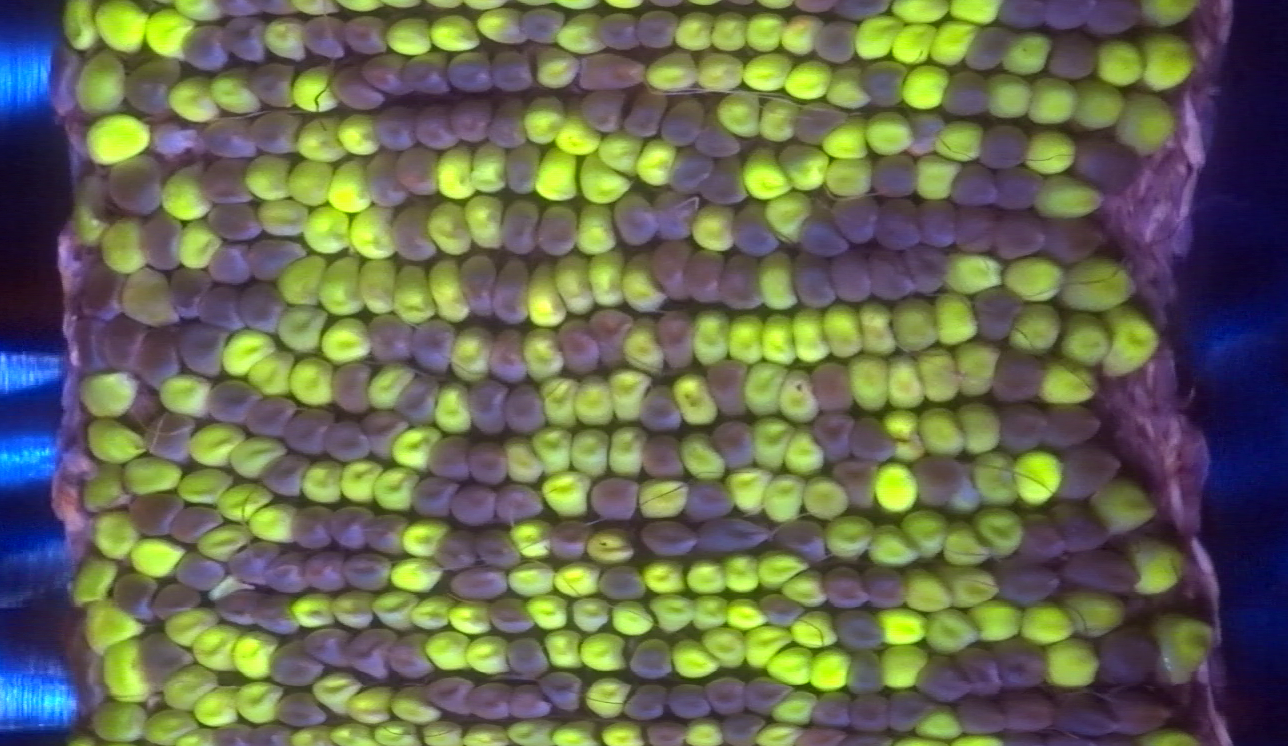fluorescent: (1157, 613, 1216, 684), (1098, 304, 1157, 374), (1122, 90, 1176, 156), (1118, 543, 1183, 595), (1066, 259, 1132, 309), (125, 264, 176, 324), (1095, 479, 1151, 533), (1138, 35, 1194, 86), (83, 117, 148, 158), (1062, 592, 1128, 632), (621, 254, 664, 315), (1012, 453, 1061, 506), (923, 609, 977, 656), (1009, 304, 1059, 354), (77, 375, 134, 418), (939, 563, 996, 606), (82, 605, 140, 647), (1006, 257, 1061, 301), (83, 418, 144, 457), (605, 368, 649, 422), (553, 256, 593, 315), (955, 403, 1002, 453), (947, 249, 1002, 291), (1043, 644, 1098, 686), (274, 257, 324, 303), (103, 649, 149, 699), (146, 7, 188, 61), (430, 262, 466, 325), (100, 222, 148, 269), (892, 299, 938, 348), (973, 507, 1019, 556), (579, 156, 630, 200), (1037, 179, 1101, 214), (674, 374, 717, 426), (77, 57, 121, 107), (188, 419, 238, 463), (932, 118, 984, 160), (527, 263, 562, 325), (849, 356, 887, 413), (232, 433, 279, 479), (918, 409, 967, 453), (429, 200, 471, 251), (636, 478, 687, 520), (1043, 359, 1096, 399), (1076, 81, 1122, 127), (544, 473, 590, 519), (743, 148, 790, 193), (624, 321, 663, 375), (161, 169, 211, 211), (777, 148, 829, 188), (211, 69, 258, 113), (99, 1, 142, 49), (290, 357, 333, 405), (222, 334, 271, 376), (754, 549, 804, 590), (256, 199, 307, 239), (860, 304, 900, 355), (792, 309, 831, 361), (904, 511, 949, 556), (169, 77, 217, 119), (1027, 131, 1075, 173), (302, 212, 350, 254), (320, 321, 370, 361), (759, 255, 796, 309), (743, 364, 780, 418), (919, 351, 958, 402), (823, 517, 874, 556), (875, 465, 918, 511), (903, 568, 951, 609), (163, 610, 216, 647), (576, 204, 616, 253), (89, 701, 138, 741), (935, 293, 974, 343), (824, 304, 863, 354), (523, 328, 561, 379), (828, 154, 873, 197), (195, 626, 238, 671), (803, 478, 849, 520), (599, 132, 640, 179), (330, 163, 371, 210), (749, 626, 790, 673), (395, 269, 430, 324), (437, 146, 474, 198), (291, 68, 340, 107), (322, 262, 358, 315), (247, 155, 292, 197), (541, 150, 578, 201), (955, 346, 994, 394), (348, 218, 397, 256), (763, 312, 798, 365), (197, 523, 250, 558), (679, 434, 722, 477), (1065, 317, 1107, 361), (881, 648, 926, 689), (764, 196, 807, 238), (92, 515, 134, 558), (297, 121, 341, 162), (1029, 81, 1074, 121), (456, 329, 492, 379), (523, 97, 561, 144), (538, 378, 575, 426), (124, 460, 183, 490), (781, 372, 817, 421), (717, 95, 760, 136), (289, 161, 330, 204), (944, 526, 988, 566), (425, 632, 469, 672), (159, 379, 212, 412), (128, 540, 181, 573), (870, 527, 917, 564), (391, 560, 438, 597), (648, 50, 696, 86), (361, 261, 393, 315), (883, 416, 925, 457), (337, 117, 380, 157), (874, 612, 929, 643), (466, 200, 503, 246), (977, 459, 1014, 505), (254, 347, 290, 394), (393, 688, 440, 724), (894, 22, 935, 63), (1102, 44, 1143, 85), (857, 17, 897, 59), (559, 103, 594, 151), (763, 473, 798, 521), (1006, 33, 1049, 72), (233, 633, 272, 676), (370, 365, 408, 409), (672, 638, 716, 676), (868, 116, 913, 153), (1027, 606, 1074, 641), (988, 76, 1030, 115), (375, 469, 414, 511), (372, 593, 415, 631), (694, 309, 726, 360), (701, 630, 745, 667), (901, 71, 946, 107), (529, 428, 569, 468), (589, 259, 623, 306), (698, 53, 740, 91), (720, 553, 758, 595), (279, 309, 322, 346), (220, 484, 273, 514), (59, 3, 95, 47), (610, 598, 654, 634), (501, 441, 541, 480), (393, 424, 432, 464), (253, 505, 293, 544), (829, 67, 870, 105), (888, 362, 925, 404), (819, 123, 866, 156), (576, 381, 612, 424), (649, 595, 692, 631), (167, 669, 210, 705), (292, 593, 336, 628), (732, 313, 764, 361), (589, 527, 634, 561), (760, 101, 799, 140), (554, 564, 600, 597), (915, 160, 956, 197), (179, 225, 216, 266), (729, 473, 766, 514), (235, 683, 276, 720), (766, 650, 813, 682), (696, 203, 730, 247), (754, 420, 788, 464), (509, 522, 553, 556), (611, 432, 644, 477), (636, 140, 672, 181), (557, 16, 603, 48), (431, 18, 478, 49), (974, 605, 1021, 636), (313, 680, 357, 713), (544, 631, 582, 669), (537, 49, 578, 84), (788, 433, 823, 474), (809, 654, 850, 689), (934, 27, 976, 61), (792, 613, 838, 644), (469, 638, 509, 673), (582, 638, 627, 669), (475, 12, 523, 41), (586, 680, 628, 713), (346, 459, 376, 505), (196, 687, 239, 719), (266, 18, 303, 55), (473, 148, 504, 192), (573, 432, 607, 472), (788, 63, 829, 96), (784, 575, 827, 606), (724, 599, 767, 630), (676, 13, 713, 49), (686, 559, 723, 595), (743, 59, 792, 86), (438, 385, 468, 429), (404, 521, 446, 552), (81, 556, 111, 599), (915, 709, 961, 737), (86, 469, 124, 502), (748, 14, 784, 48), (178, 474, 229, 498), (307, 459, 340, 496), (644, 563, 686, 592), (389, 24, 430, 53), (529, 597, 568, 627), (450, 603, 489, 633), (335, 593, 372, 624), (772, 692, 809, 723), (349, 692, 393, 718), (693, 597, 725, 632), (572, 600, 609, 630), (411, 598, 449, 627), (1143, 2, 1193, 24), (507, 568, 551, 593), (713, 16, 745, 50), (509, 719, 555, 742), (144, 713, 194, 734), (784, 20, 815, 53), (891, 2, 950, 19), (945, 4, 1000, 22), (171, 1, 217, 21), (74, 203, 105, 232), (552, 726, 600, 744), (602, 723, 644, 743), (331, 724, 369, 743), (687, 725, 724, 743), (467, 724, 505, 741), (376, 726, 413, 742), (425, 725, 461, 740), (292, 1, 336, 12), (755, 729, 796, 740), (177, 731, 213, 742), (294, 731, 326, 740)
nonfluorescent: (1095, 622, 1164, 683), (1057, 554, 1141, 594), (1048, 501, 1114, 551), (1075, 134, 1138, 185), (1112, 687, 1174, 736), (579, 50, 647, 94), (1058, 448, 1119, 497), (113, 156, 166, 212), (994, 638, 1053, 688), (993, 559, 1060, 602), (1016, 512, 1070, 564), (181, 319, 229, 377), (913, 455, 965, 508), (200, 159, 259, 205), (916, 654, 968, 706), (1052, 692, 1119, 732), (1045, 218, 1110, 259), (861, 61, 912, 113), (493, 258, 530, 329), (131, 57, 176, 115), (393, 202, 437, 261), (501, 195, 542, 258), (1042, 403, 1105, 444), (697, 519, 770, 554), (835, 459, 881, 514), (659, 310, 701, 370), (200, 114, 257, 158), (77, 262, 121, 319), (101, 323, 149, 375), (269, 636, 322, 683), (586, 478, 641, 523), (704, 359, 748, 415), (771, 519, 828, 562), (144, 632, 190, 685), (652, 241, 691, 303), (143, 411, 192, 460), (415, 317, 455, 377), (226, 538, 276, 586), (372, 103, 419, 154), (873, 197, 920, 248), (993, 212, 1044, 259), (459, 251, 493, 321), (1052, 32, 1100, 81), (253, 107, 302, 155), (629, 633, 677, 682), (362, 411, 408, 462), (204, 203, 264, 242), (170, 548, 227, 589), (348, 628, 392, 681), (622, 679, 676, 722), (139, 212, 179, 270), (1003, 692, 1059, 733), (445, 51, 496, 96), (946, 70, 993, 118), (720, 255, 761, 310), (793, 256, 834, 311), (948, 159, 999, 203), (69, 314, 107, 373), (336, 551, 392, 591), (50, 46, 81, 118), (449, 567, 511, 603), (958, 645, 1000, 698), (992, 349, 1038, 397), (746, 670, 792, 718), (468, 381, 508, 436), (832, 610, 887, 650), (639, 521, 700, 557), (490, 44, 533, 95), (615, 195, 658, 246), (976, 287, 1019, 338), (116, 571, 158, 623), (182, 23, 228, 70), (998, 166, 1047, 210), (624, 89, 667, 139), (867, 248, 906, 303), (495, 482, 546, 524), (246, 239, 299, 279), (251, 64, 298, 109), (713, 421, 757, 469), (689, 250, 726, 307), (875, 155, 924, 198), (226, 17, 268, 67), (546, 517, 597, 558), (303, 15, 349, 60), (426, 432, 472, 477), (438, 525, 482, 572), (256, 590, 300, 637), (333, 362, 372, 415), (1005, 403, 1044, 456), (265, 453, 308, 501), (389, 635, 431, 684), (955, 202, 995, 253), (241, 281, 281, 332), (539, 202, 576, 257), (830, 251, 869, 303), (563, 321, 602, 373), (822, 564, 867, 609), (415, 104, 459, 150), (286, 407, 330, 453), (686, 476, 734, 518), (596, 307, 634, 360), (132, 493, 181, 534), (732, 209, 772, 259), (904, 243, 944, 293), (143, 331, 180, 385), (367, 158, 406, 209), (963, 25, 1007, 70), (214, 377, 258, 422), (843, 650, 889, 693), (475, 528, 522, 570), (640, 388, 681, 436), (668, 681, 717, 721), (278, 693, 332, 729), (166, 269, 204, 320), (403, 52, 446, 97), (800, 101, 845, 144), (369, 315, 412, 360), (808, 361, 851, 406), (959, 691, 1004, 734), (365, 56, 411, 98), (368, 511, 409, 558), (506, 379, 541, 434), (293, 503, 331, 553), (981, 121, 1024, 165), (861, 570, 905, 613), (78, 654, 111, 711), (1089, 1, 1141, 37), (489, 596, 539, 633), (304, 548, 346, 592), (209, 243, 249, 289), (656, 194, 695, 241), (470, 439, 509, 486), (815, 413, 853, 461), (213, 586, 261, 624), (506, 637, 554, 675), (814, 21, 856, 64), (329, 506, 371, 549), (398, 148, 439, 192), (799, 213, 843, 254), (848, 688, 892, 729), (852, 420, 897, 460), (450, 486, 495, 526), (709, 163, 748, 209), (202, 284, 241, 330), (490, 101, 528, 148), (400, 376, 437, 424), (641, 434, 683, 476), (308, 626, 348, 670), (414, 472, 452, 518), (919, 201, 956, 248), (759, 590, 806, 627), (705, 672, 747, 713), (597, 563, 646, 598), (346, 14, 384, 59), (431, 677, 472, 718), (581, 91, 623, 131), (892, 688, 931, 731), (63, 605, 91, 664), (694, 122, 741, 157), (837, 196, 872, 243), (495, 328, 526, 381), (450, 101, 491, 141), (328, 420, 368, 461), (518, 7, 561, 45), (337, 71, 380, 109), (175, 508, 220, 544), (505, 147, 537, 197), (541, 669, 581, 709), (636, 11, 679, 48), (470, 682, 515, 717), (157, 585, 203, 619), (670, 150, 707, 192), (248, 398, 290, 435), (513, 685, 555, 721), (665, 96, 694, 148), (1048, 1, 1095, 32), (270, 554, 306, 594), (1001, 1, 1048, 31), (722, 715, 765, 746), (601, 15, 638, 50), (816, 691, 848, 730), (211, 717, 254, 746), (642, 719, 687, 746), (249, 723, 292, 746), (62, 114, 83, 155)
